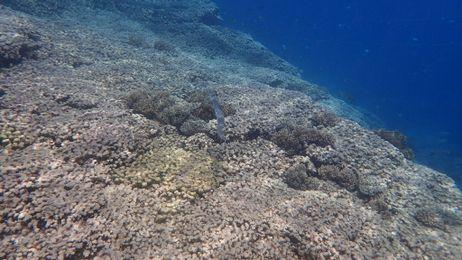Fistularia commersonii: (171, 70, 245, 144)
